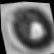correct: (3, 0, 54, 54)
